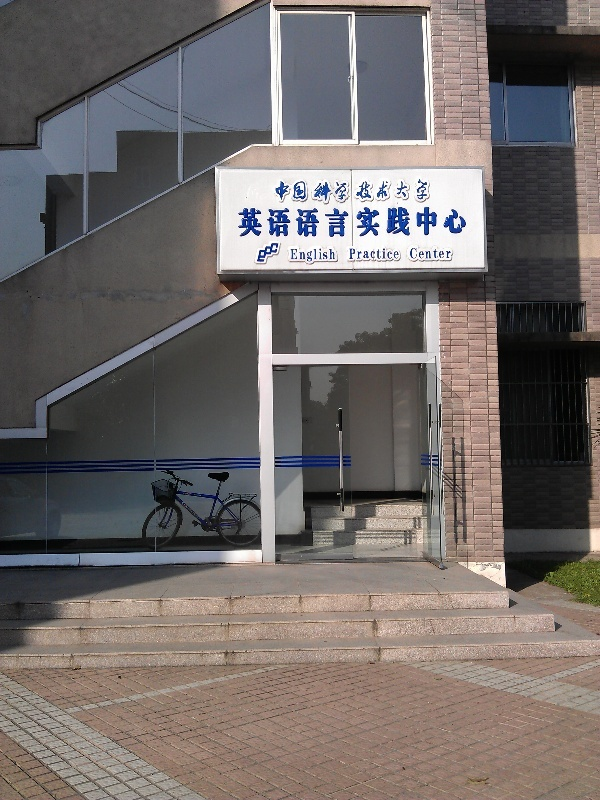text: (241, 207, 256, 238), (257, 207, 272, 238), (273, 207, 288, 238), (289, 207, 304, 238), (305, 207, 320, 238), (321, 207, 336, 238), (337, 207, 352, 238), (353, 207, 368, 238), (369, 207, 384, 238), (385, 207, 400, 238), (401, 207, 416, 238), (417, 207, 432, 238), (433, 207, 448, 238), (449, 207, 464, 238), (289, 179, 304, 205), (305, 179, 320, 205), (321, 179, 336, 205), (337, 179, 352, 205), (353, 179, 368, 205), (369, 179, 384, 205), (385, 179, 400, 205), (401, 179, 416, 205), (274, 179, 288, 205), (417, 179, 430, 205), (289, 247, 304, 266), (305, 247, 320, 266), (321, 247, 336, 266), (385, 247, 401, 263), (353, 247, 368, 263), (369, 247, 384, 263), (417, 247, 432, 260), (433, 247, 448, 260), (409, 247, 416, 260), (348, 247, 352, 263), (238, 207, 240, 238), (465, 207, 467, 238), (449, 247, 452, 260), (337, 247, 339, 266), (287, 247, 288, 266)
